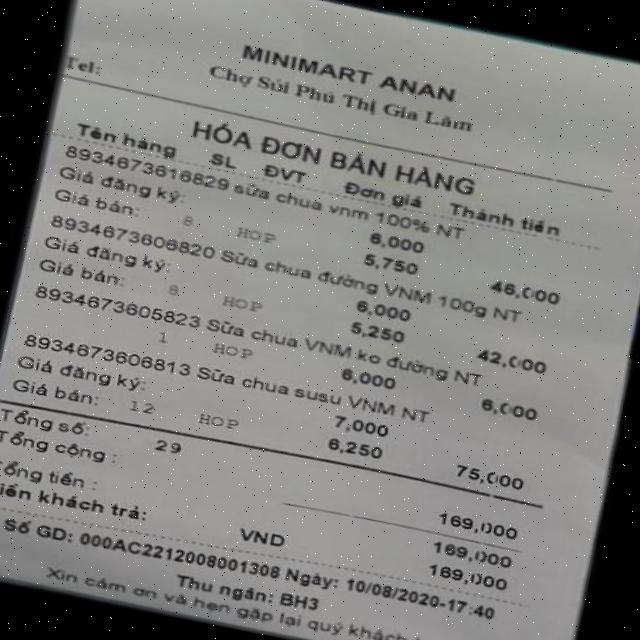Date: (344, 572, 442, 614)
Store_Name: (211, 28, 478, 117)
amount_number: (421, 535, 520, 573)
label_total: (0, 454, 98, 495)
